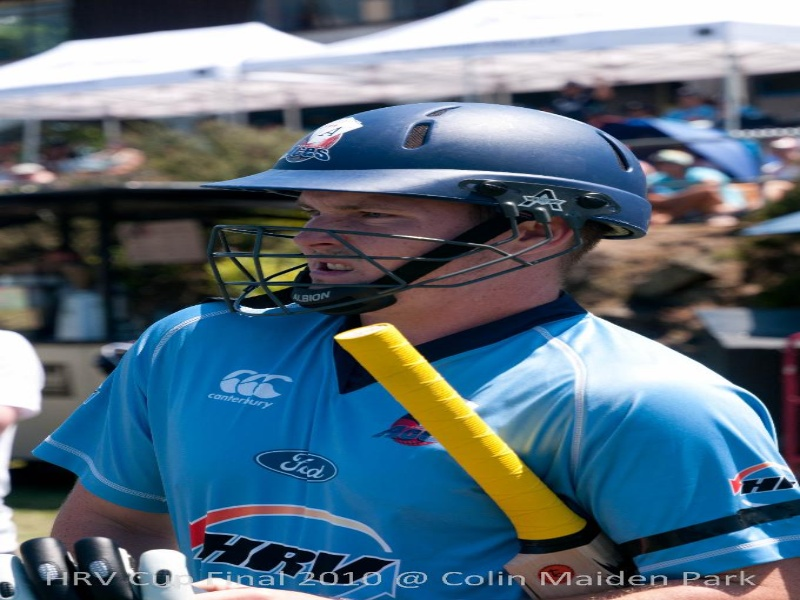Baret: (267, 101, 651, 238)
